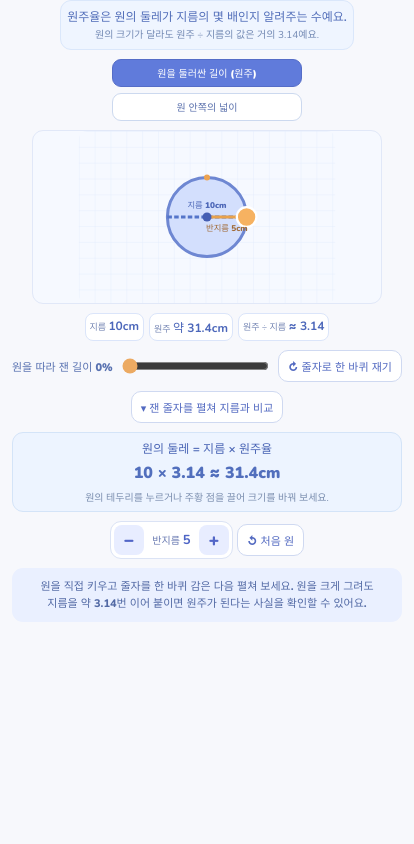
학년별 도형과 원주율 직접 조작 › 원의 크기를 바꾸어도 원주 ÷ 지름 약 3.14는 그대로이다
The image size is (414, 844).
Click the button named "반지름 늘리기" at (214, 540), box [199, 525, 229, 555]
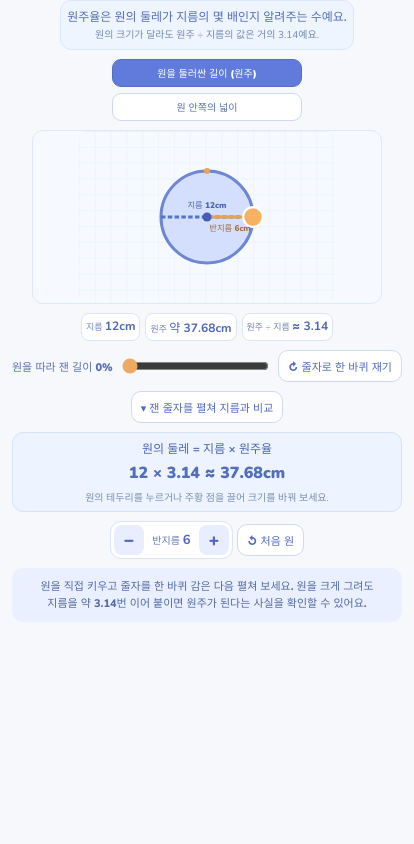
Check: the text "3.14" is shown, box [95, 28, 319, 42]
Click the button "↻ 줄자로 한 바퀴 재기" at (340, 366), box [278, 350, 402, 382]
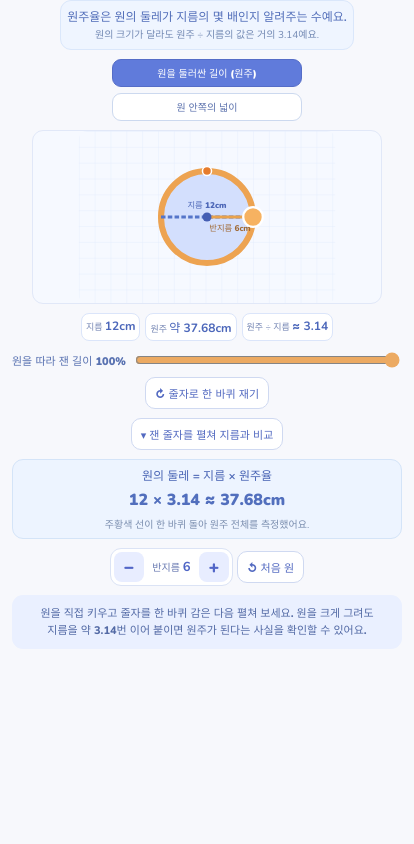
Check: the slider named "원의 테두리를 따라 측정한 비율" holds "100", box [135, 352, 400, 368]
